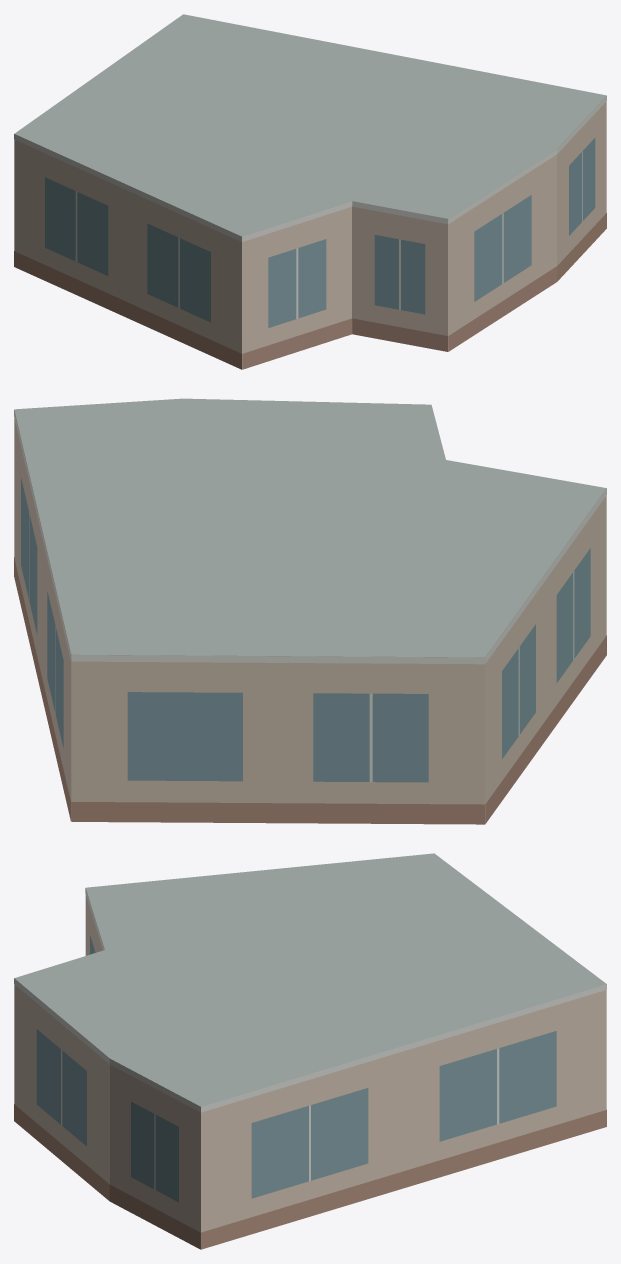
File: survey-upis-32771244.glb
3 renders of one model, top to bottom at view 1: azimuth 30°, elevation 25°; view 2: azimuth 150°, elevation 25°; view 3: azimuth 270°, elevation 25°, orthographic. The views are drawn at different scales.
Parts seen in each view (by area): view 1: survey-upis-32771244.tmp; view 2: survey-upis-32771244.tmp; view 3: survey-upis-32771244.tmp.
Part boxes in pixels (x1,y1,x2,y2): survey-upis-32771244.tmp: (14,14,606,369); survey-upis-32771244.tmp: (14,398,606,824); survey-upis-32771244.tmp: (14,853,606,1249).
Bounding box in the file's own units: 11.62 × 3.05 × 11.48.
